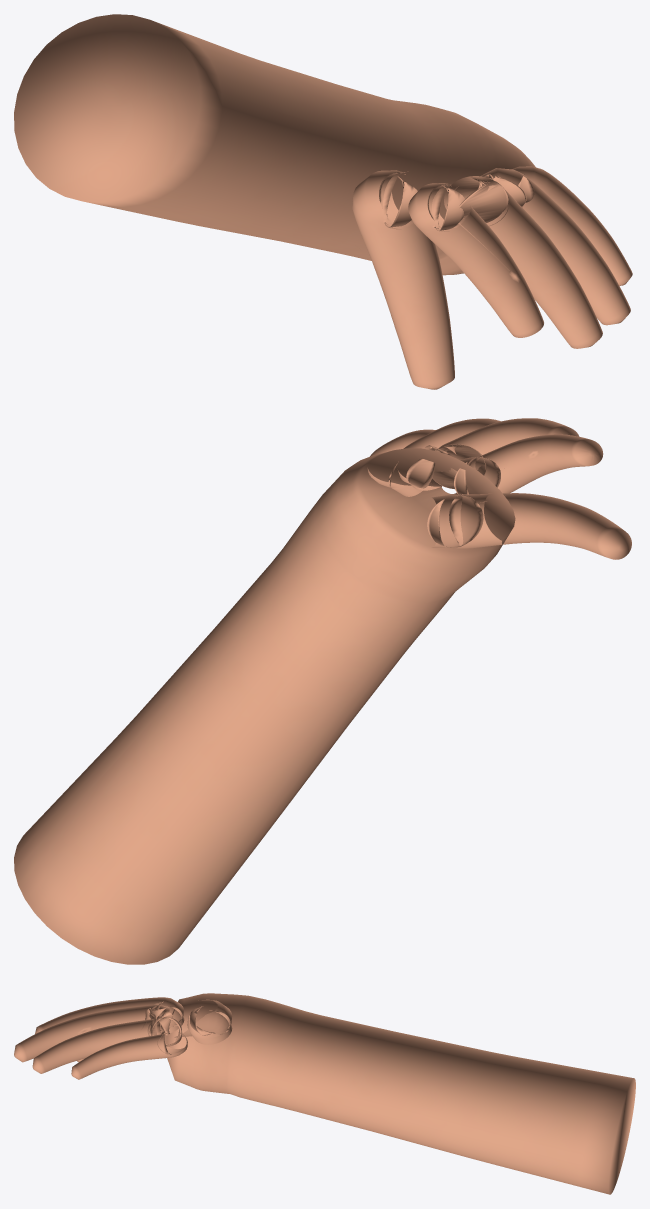
Rendered from hand_idle.glb.
The picture shows the model from 3 angles, top to bottom: view 1: azimuth 30°, elevation 25°; view 2: azimuth 150°, elevation 25°; view 3: azimuth 270°, elevation 25°; orthographic projection. The views are drawn at different scales.
Parts seen in each view (by area): view 1: hand_idle; view 2: hand_idle; view 3: hand_idle.
Part boxes in pixels (x1=…): hand_idle: x1=14, y1=14, x2=632, y2=389; hand_idle: x1=14, y1=418, x2=631, y2=964; hand_idle: x1=14, y1=993, x2=635, y2=1194.
Bounding box in the file's own units: 0.0877 × 0.1125 × 0.3381.
1 material, 1 textured.
